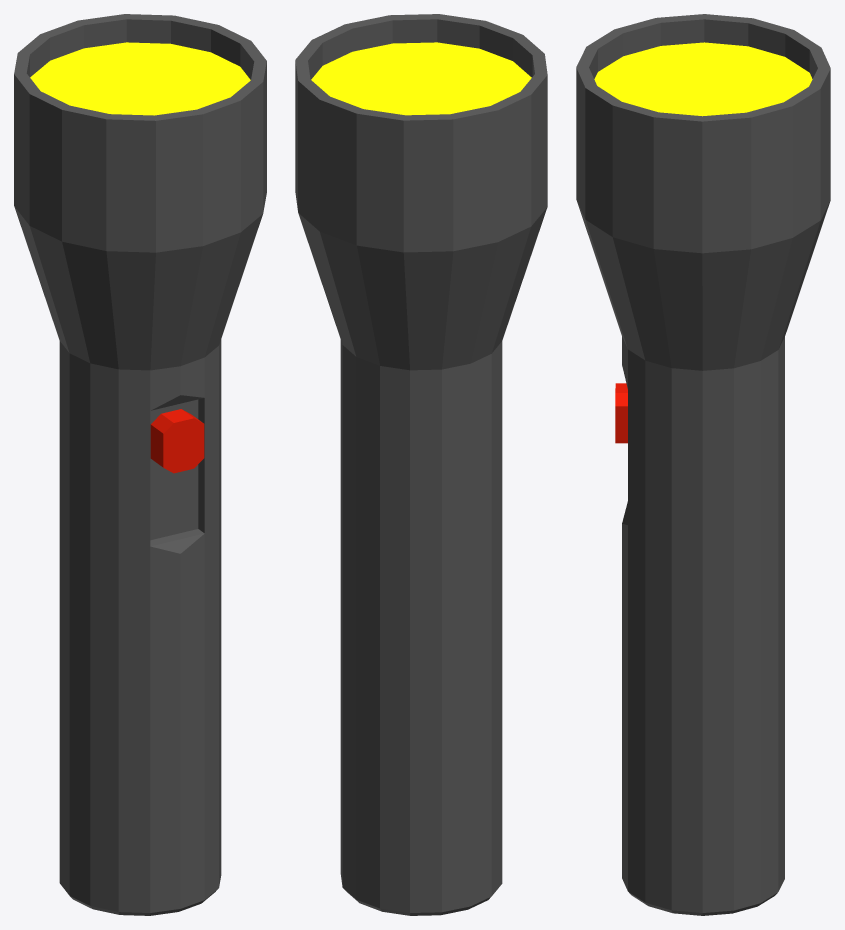
3 views of the same model, side by side, from view 1: azimuth 30°, elevation 25°; view 2: azimuth 150°, elevation 25°; view 3: azimuth 270°, elevation 25° (orthographic).
Visible parts, largest first — view 1: Flashlight; view 2: Flashlight; view 3: Flashlight.
Boxes of the visible parts, left/top/right/bottom form: Flashlight: left=14, top=14, right=266, bottom=915; Flashlight: left=295, top=14, right=547, bottom=915; Flashlight: left=576, top=14, right=830, bottom=915.
Size of the model in its own units: 525 by 1857 by 525.
